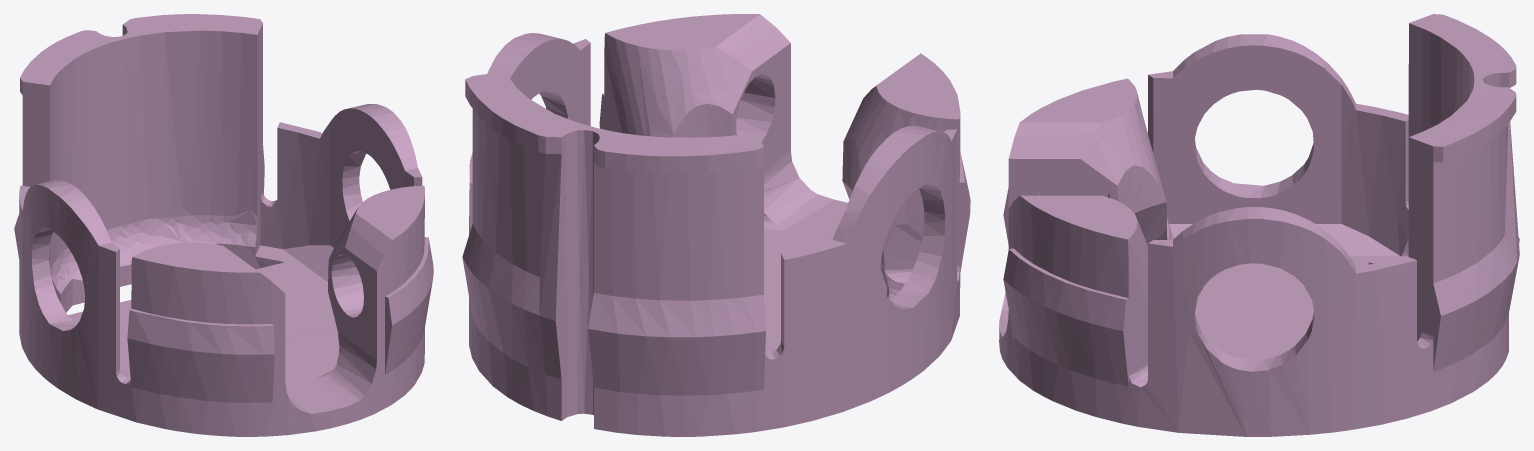
File: i02_head_left_eye_vertical_visual_0.obj.balanced.glb
3 views of the same model, side by side, from view 1: azimuth 30°, elevation 25°; view 2: azimuth 150°, elevation 25°; view 3: azimuth 270°, elevation 25° (orthographic). The views are drawn at different scales.
Size of the model in its own units: 0.1896 by 0.1261 by 0.225.
